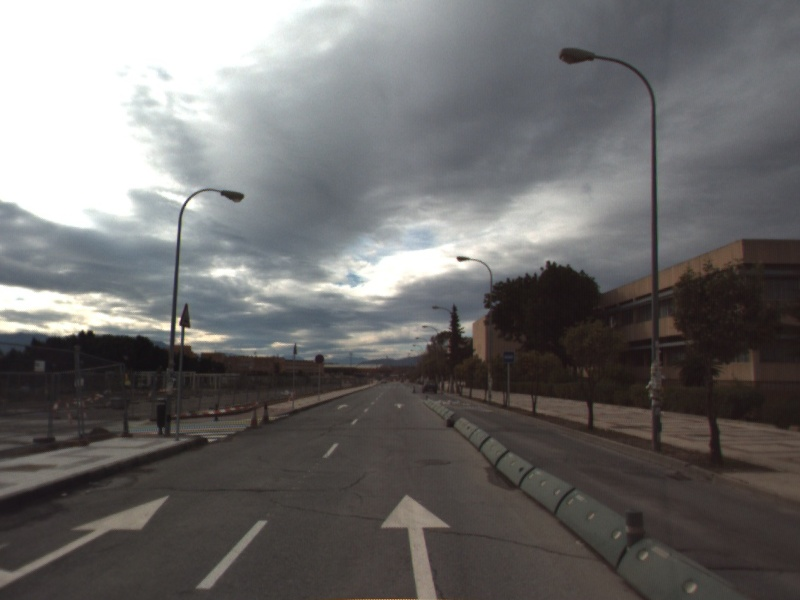STRAIGHT: (1, 493, 172, 588), (378, 492, 453, 600), (391, 401, 407, 410), (334, 402, 350, 411)
